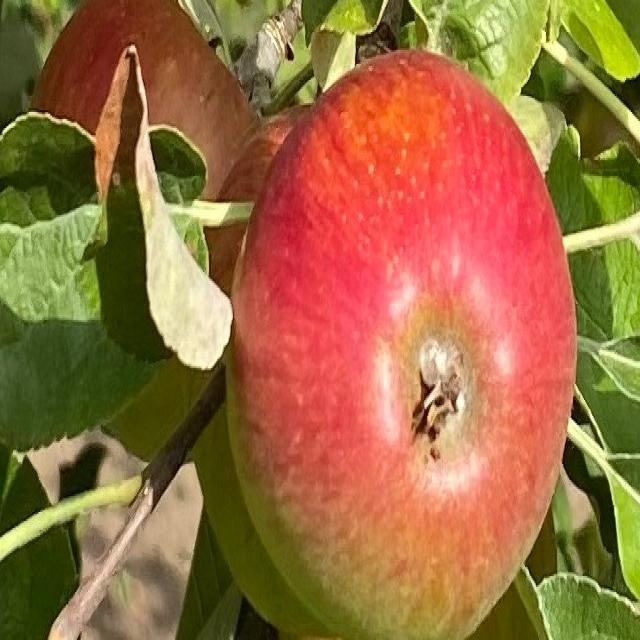Apples: (227, 52, 579, 638), (31, 0, 270, 468), (197, 103, 335, 638)
